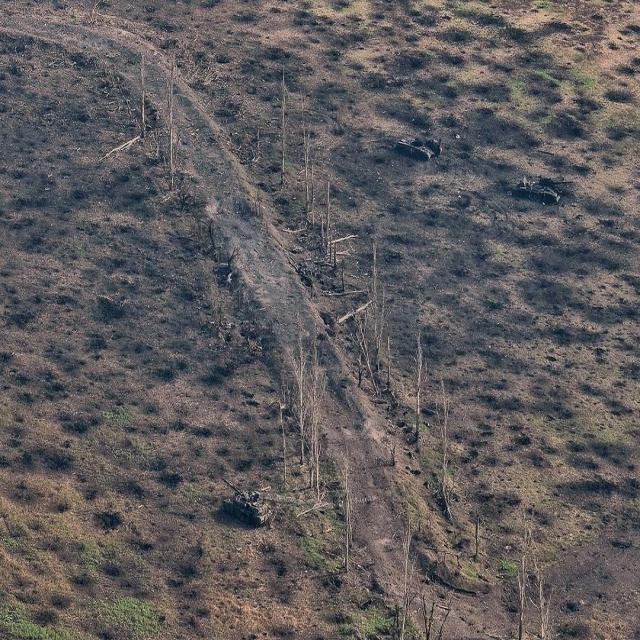MBT: (222, 476, 274, 528), (510, 171, 573, 207), (394, 132, 445, 165)
